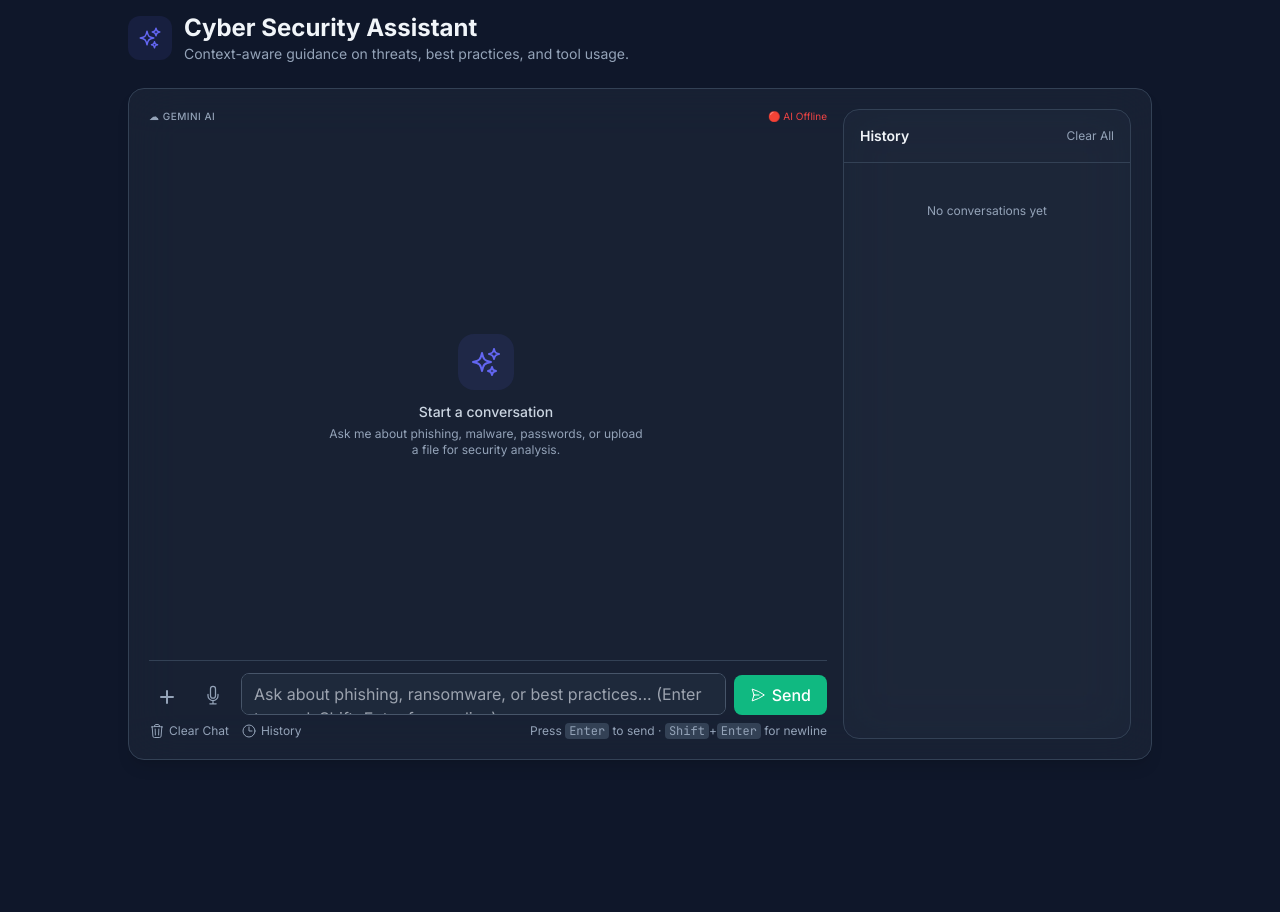
AI Chatbot › sends a message and displays response
This screenshot has width=1280, height=912.
Type "What is phishing?" into the text box with placeholder "Ask about phishing".
click(483, 694); type("What is phishing?")  # box [241,673,726,715]
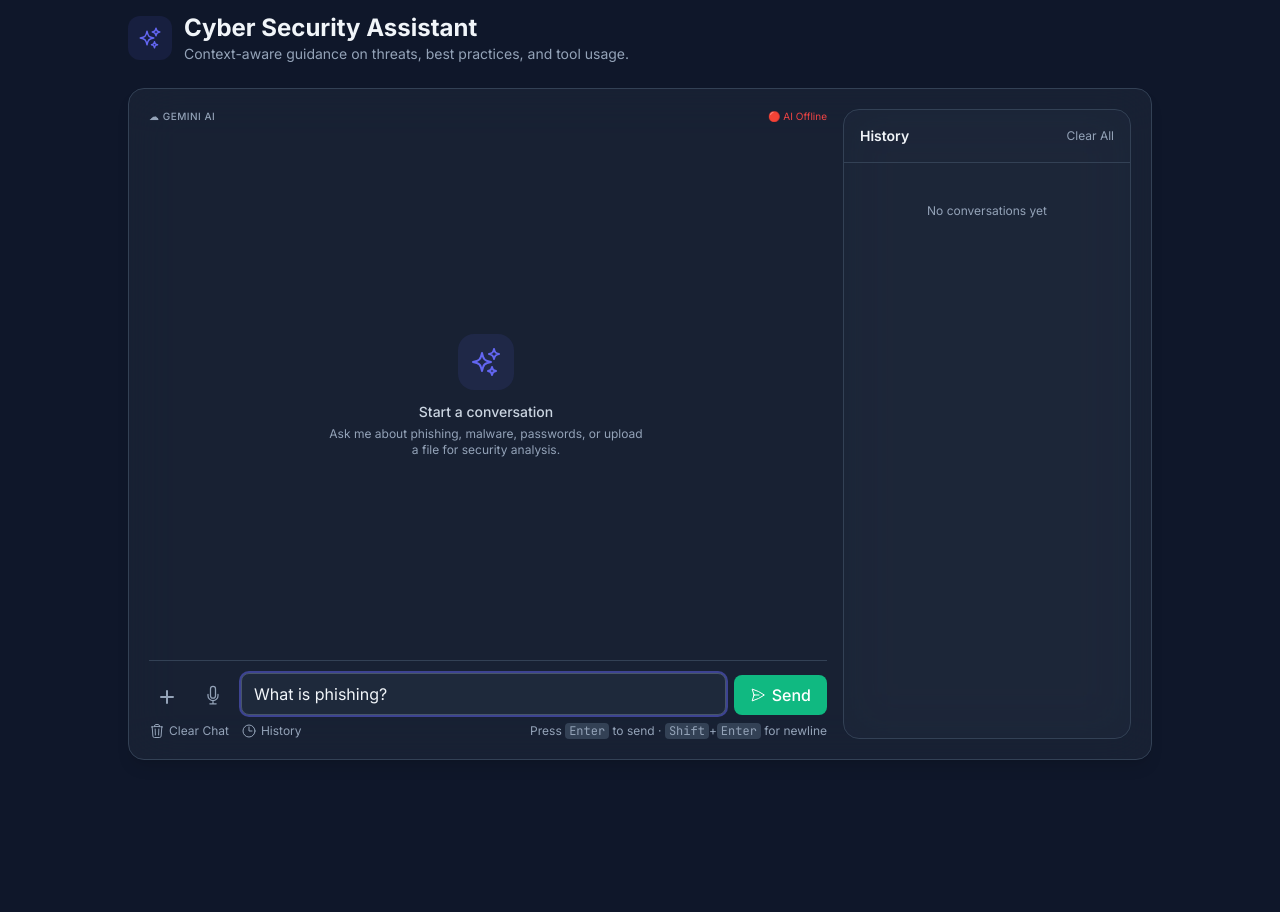
Click the button "Send".
click(780, 695)  # box [734,675,827,715]
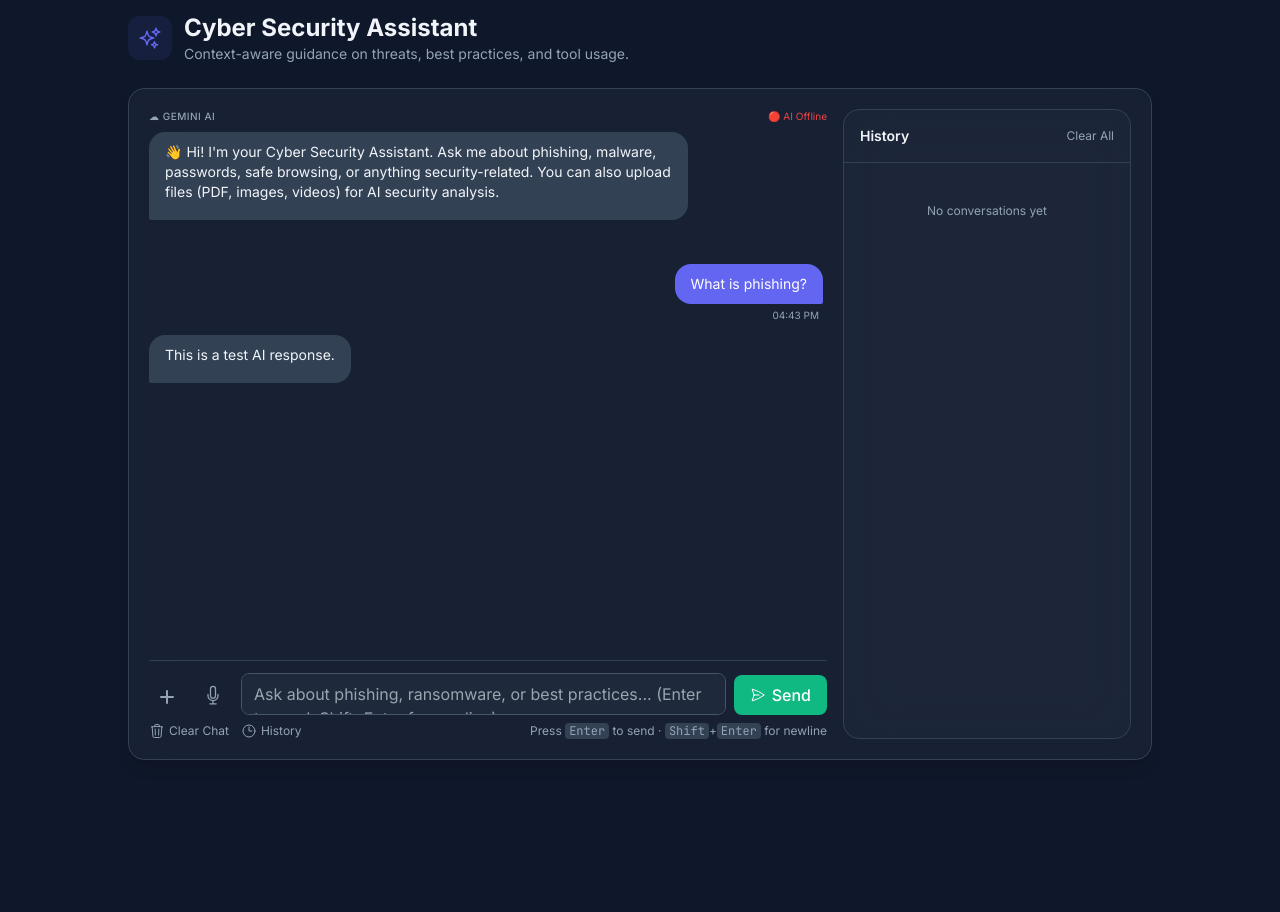
Result: the text "What is phishing?" is shown at [674,264,823,304]
Result: the text "This is a test AI response." is shown at [165,345,335,365]
